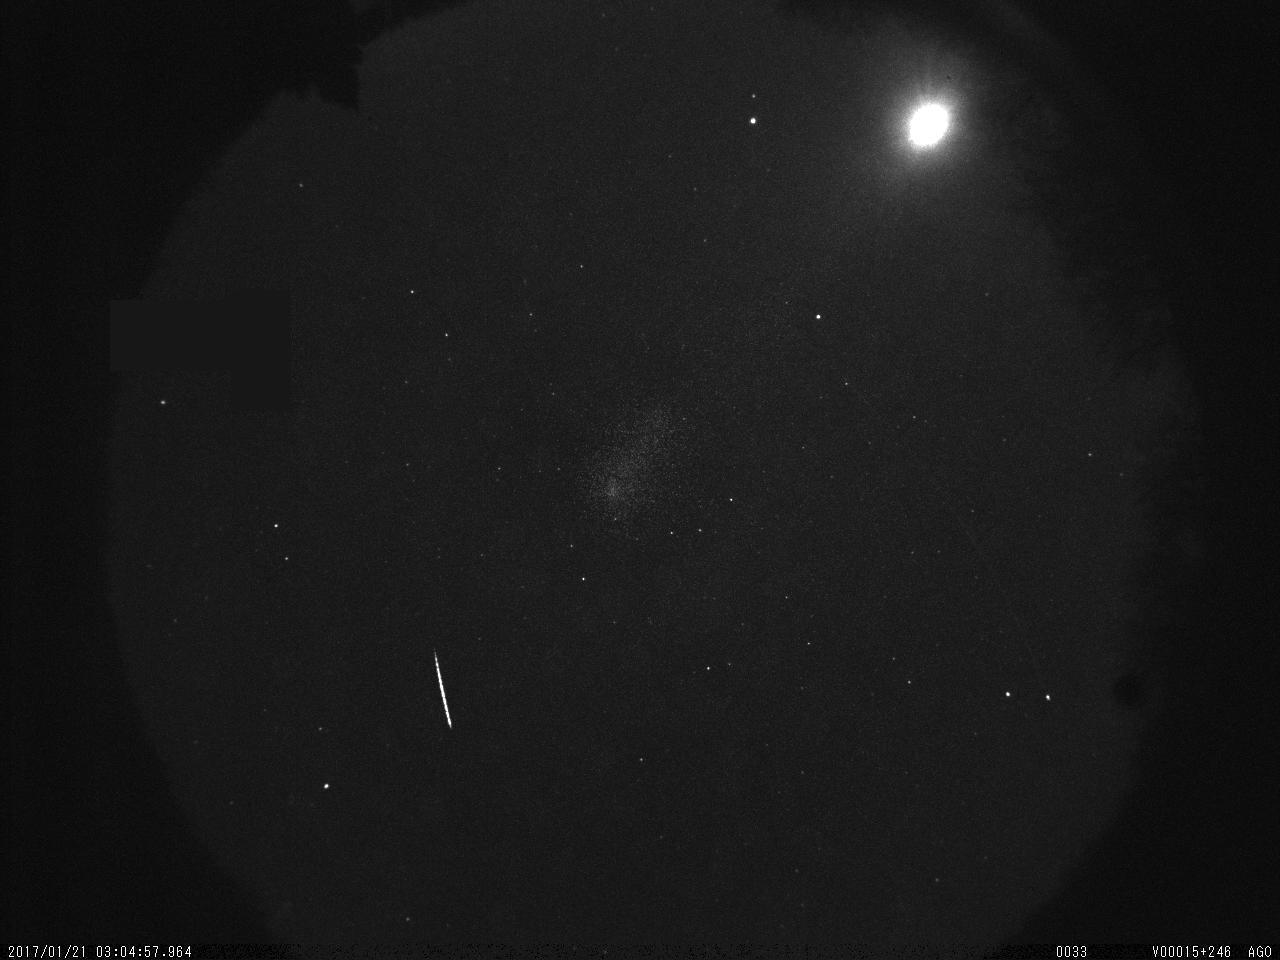Meteor: (425, 644, 467, 738)
